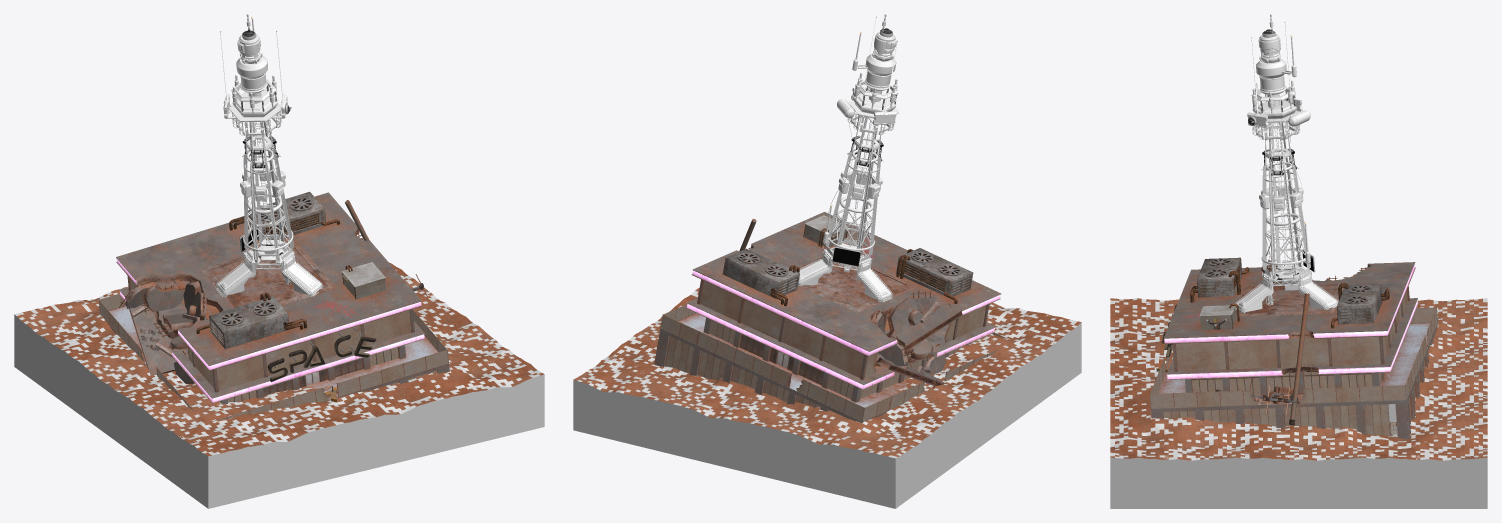
Rendered from Ground_skyscraper.fbx.
The picture shows the model from 3 angles, left to right: view 1: azimuth 30°, elevation 25°; view 2: azimuth 150°, elevation 25°; view 3: azimuth 270°, elevation 25°; orthographic projection. The views are drawn at different scales.
Parts seen in each view (by area): view 1: Skyscraper_combined, Ground_skyscraper_06_M01_MeshCollidor, SM_RadioTower_Skyscraper, Ground_skyscraper_01_M01_MeshCollidor, Ground_skyscraper_04_M02_MeshCollidor, Ground_skyscraper_08_M02_MeshCollidor, Ground_skyscraper_06_M01_LOD0, Ground_skyscraper_07_M01_MeshCollidor, Ground_skyscraper_01_M01_LOD0, Ground_skyscraper_08_M02_LOD0, Ground_skyscraper_04_M02_LOD0, Ground_skyscraper_07_M01_LOD0 (+2 smaller); view 2: Skyscraper_combined, SM_RadioTower_Skyscraper, Ground_skyscraper_08_M02_MeshCollidor, Ground_skyscraper_03_M01_MeshCollidor, Ground_skyscraper_05_M01_MeshCollidor, Ground_skyscraper_06_M01_MeshCollidor, Ground_skyscraper_07_M01_MeshCollidor, Ground_skyscraper_08_M02_LOD0, Ground_skyscraper_03_M01_LOD0, Ground_skyscraper_06_M01_LOD0, Ground_skyscraper_05_M01_LOD0, Ground_skyscraper_07_M01_LOD0; view 3: Skyscraper_combined, SM_RadioTower_Skyscraper, Ground_skyscraper_03_M01_MeshCollidor, Ground_skyscraper_01_M01_MeshCollidor, Ground_skyscraper_02_M02_MeshCollidor, Ground_skyscraper_01_M01_LOD0, Ground_skyscraper_03_M01_LOD0, Ground_skyscraper_02_M02_LOD0, Ground_skyscraper_05_M01_LOD0, Ground_skyscraper_08_M02_LOD0, Ground_skyscraper_06_M01_LOD0, Ground_skyscraper_04_M02_LOD0 (+4 smaller).
Boxes of the visible parts, left/top/right/bottom form: Skyscraper_combined: left=98, top=191, right=449, bottom=422; Ground_skyscraper_06_M01_MeshCollidor: left=143, top=394, right=320, bottom=508; SM_RadioTower_Skyscraper: left=215, top=14, right=323, bottom=297; Ground_skyscraper_01_M01_MeshCollidor: left=408, top=328, right=544, bottom=453; Ground_skyscraper_04_M02_MeshCollidor: left=272, top=383, right=432, bottom=481; Ground_skyscraper_08_M02_MeshCollidor: left=14, top=288, right=131, bottom=413; Ground_skyscraper_06_M01_LOD0: left=146, top=395, right=319, bottom=456; Ground_skyscraper_07_M01_MeshCollidor: left=79, top=347, right=205, bottom=461; Ground_skyscraper_01_M01_LOD0: left=409, top=327, right=544, bottom=401; Ground_skyscraper_08_M02_LOD0: left=17, top=287, right=140, bottom=360; Ground_skyscraper_04_M02_LOD0: left=271, top=382, right=431, bottom=427; Ground_skyscraper_07_M01_LOD0: left=81, top=349, right=203, bottom=408; Skyscraper_combined: left=654, top=212, right=1011, bottom=422; SM_RadioTower_Skyscraper: left=796, top=14, right=898, bottom=302; Ground_skyscraper_08_M02_MeshCollidor: left=788, top=401, right=957, bottom=508; Ground_skyscraper_03_M01_MeshCollidor: left=573, top=335, right=713, bottom=456; Ground_skyscraper_05_M01_MeshCollidor: left=680, top=378, right=808, bottom=482; Ground_skyscraper_06_M01_MeshCollidor: left=955, top=304, right=1081, bottom=417; Ground_skyscraper_07_M01_MeshCollidor: left=898, top=354, right=1019, bottom=462; Ground_skyscraper_08_M02_LOD0: left=788, top=402, right=954, bottom=456; Ground_skyscraper_03_M01_LOD0: left=573, top=334, right=715, bottom=404; Ground_skyscraper_06_M01_LOD0: left=953, top=302, right=1081, bottom=366; Ground_skyscraper_05_M01_LOD0: left=681, top=378, right=816, bottom=430; Ground_skyscraper_07_M01_LOD0: left=897, top=354, right=1019, bottom=411; Skyscraper_combined: left=1150, top=257, right=1438, bottom=439; SM_RadioTower_Skyscraper: left=1235, top=14, right=1338, bottom=312; Ground_skyscraper_03_M01_MeshCollidor: left=1362, top=404, right=1487, bottom=508; Ground_skyscraper_01_M01_MeshCollidor: left=1110, top=403, right=1235, bottom=508; Ground_skyscraper_02_M02_MeshCollidor: left=1236, top=423, right=1361, bottom=508; Ground_skyscraper_01_M01_LOD0: left=1110, top=403, right=1235, bottom=460; Ground_skyscraper_03_M01_LOD0: left=1362, top=405, right=1487, bottom=460; Ground_skyscraper_02_M02_LOD0: left=1236, top=423, right=1361, bottom=460; Ground_skyscraper_05_M01_LOD0: left=1415, top=348, right=1487, bottom=407; Ground_skyscraper_08_M02_LOD0: left=1417, top=298, right=1487, bottom=352; Ground_skyscraper_06_M01_LOD0: left=1110, top=298, right=1178, bottom=353; Ground_skyscraper_04_M02_LOD0: left=1110, top=351, right=1173, bottom=405.
Size of what is drawn, in the model's own units: 6001 by 7231 by 6001.
